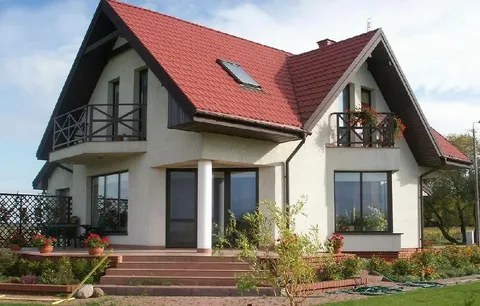private_hause: (74, 9, 412, 252)
